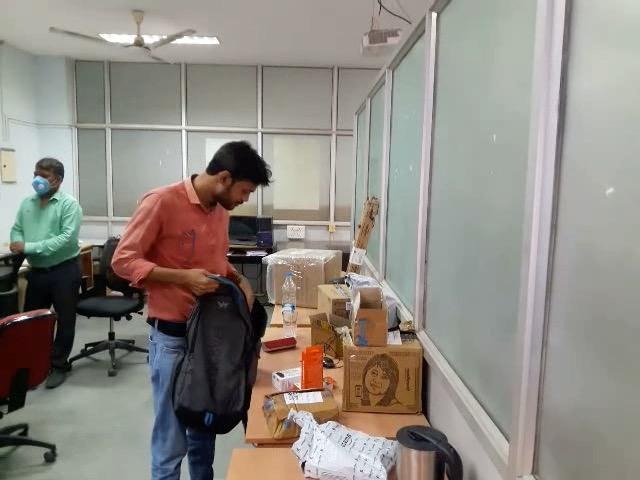shoplifting: (153, 240, 294, 464)
